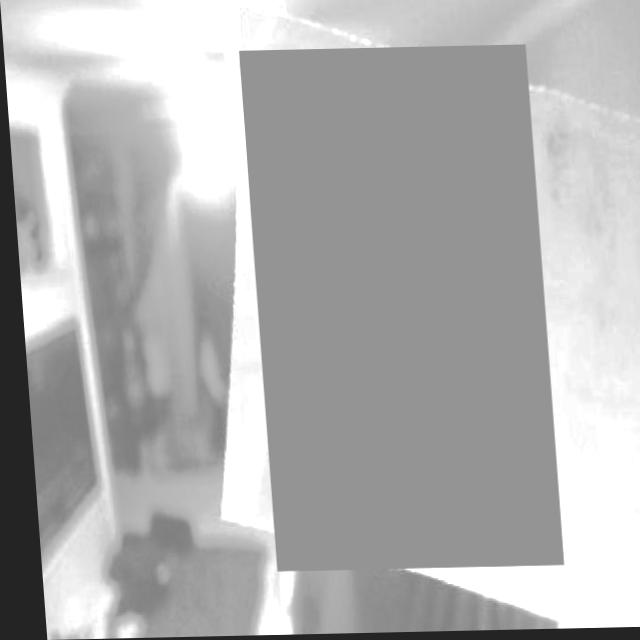qr_code: (237, 47, 556, 573)
